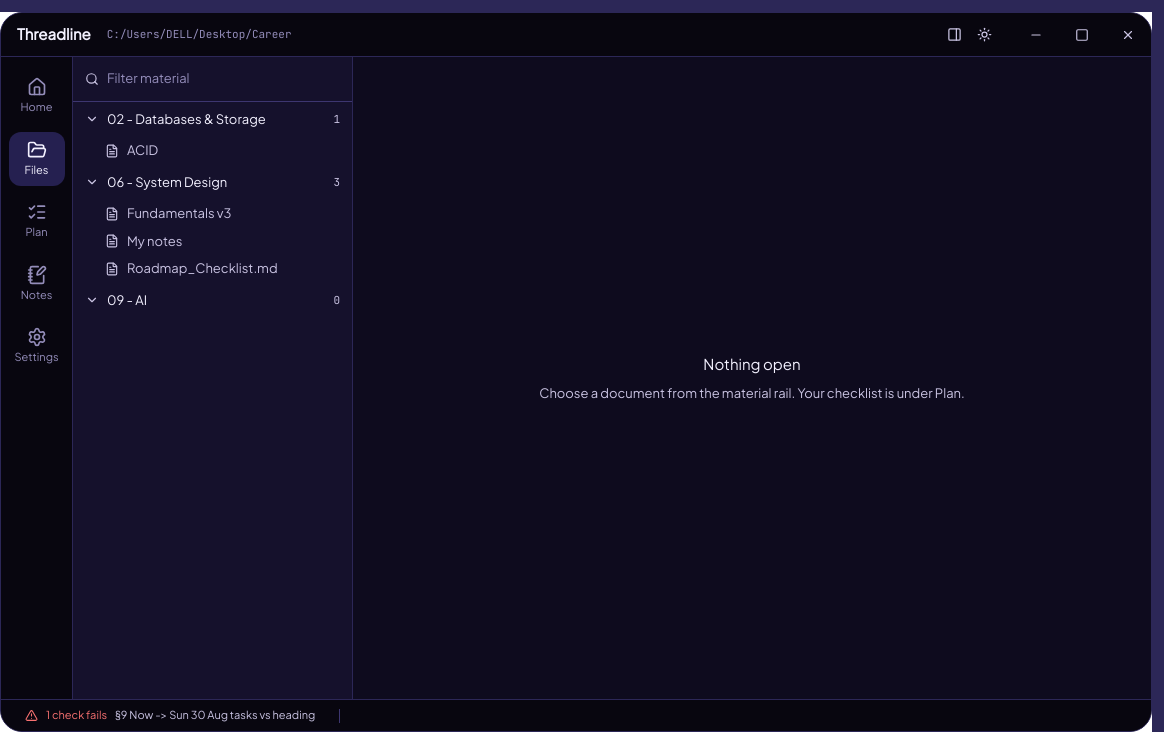
Test: the workbench › tabs › opens a document from the rail
expect the button "06 - System Design 3" is shown: met, box [73, 164, 352, 200]
Click the button "Fundamentals v3" at [212, 214], box [73, 200, 352, 228]
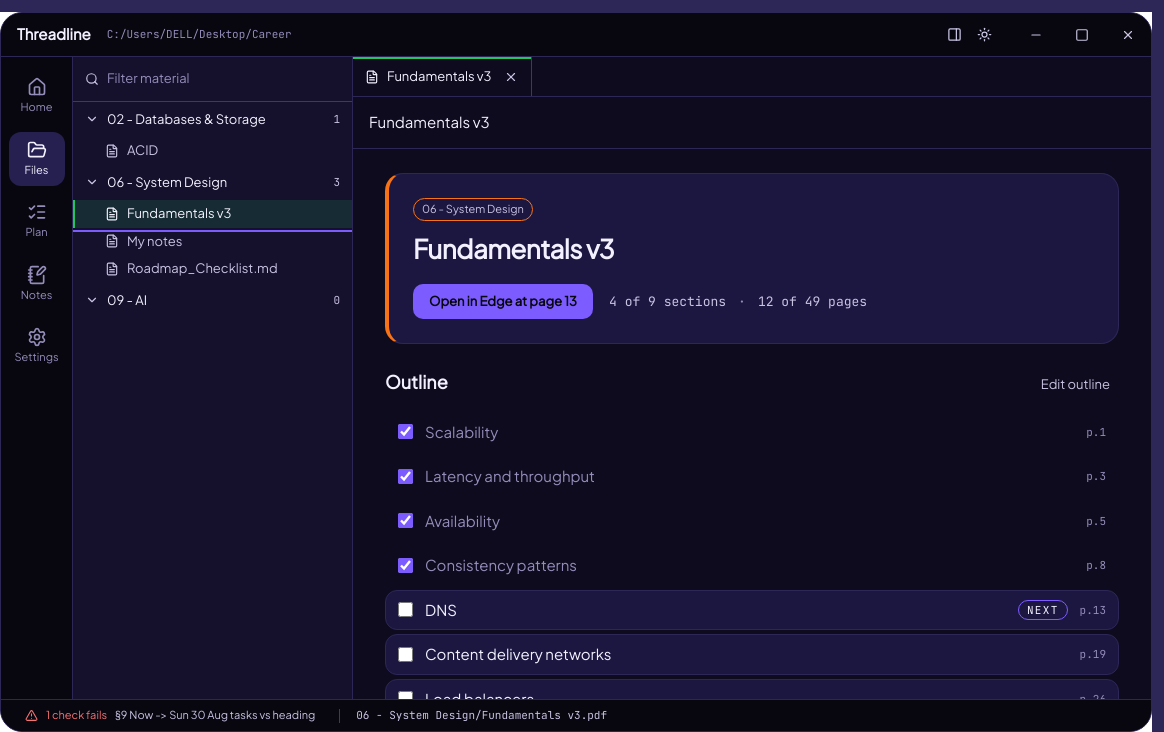
expect the tab "Fundamentals v3" is shown: met, box [353, 67, 500, 86]
